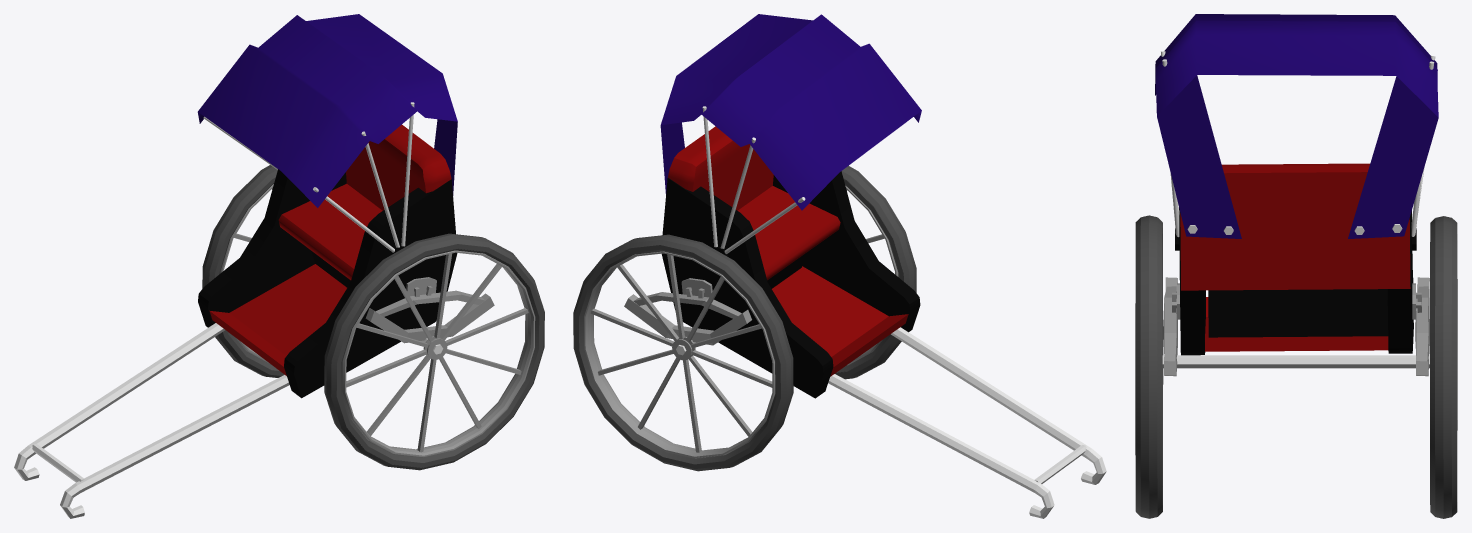
Rendered from car.fbx.
The picture shows the model from 3 angles, left to right: view 1: azimuth 30°, elevation 25°; view 2: azimuth 150°, elevation 25°; view 3: azimuth 270°, elevation 25°; orthographic projection. The views are drawn at different scales.
Visible parts, largest first — view 1: car_roof, chair, sofa, left_wheel, left_tire, handle, right_tire, leftwheelparts, left_post, right_tire1; view 2: car_roof, chair, sofa, right_tire, right_wheel1, handle, rightwheelparts, left_tire, right_post, right_tire1; view 3: sofa, car_roof, right_tire, left_tire, chair, back_post, right_tire1, rightwheelparts, leftwheelparts, right_post.
Part boxes in pixels (x1,y1,x2,y2): car_roof: (197, 14, 457, 207); chair: (198, 169, 457, 398); sofa: (209, 124, 451, 375); left_wheel: (342, 250, 535, 456); left_tire: (324, 233, 544, 467); handle: (14, 323, 289, 518); right_tire: (202, 165, 284, 377); leftwheelparts: (365, 277, 494, 343); left_post: (313, 102, 414, 252); right_tire1: (324, 248, 544, 470); car_roof: (660, 14, 921, 210); chair: (661, 171, 920, 398); sofa: (668, 126, 908, 376); right_tire: (573, 234, 793, 471); right_wheel1: (584, 251, 775, 458); handle: (828, 327, 1106, 518); rightwheelparts: (624, 278, 751, 345); left_tire: (836, 165, 916, 372); right_post: (702, 106, 805, 253); right_tire1: (835, 179, 909, 379); sofa: (1180, 163, 1410, 351); car_roof: (1155, 14, 1438, 238); right_tire: (1430, 216, 1457, 518); left_tire: (1135, 215, 1162, 511); chair: (1179, 207, 1413, 355); back_post: (1162, 355, 1429, 368); right_tire1: (1135, 223, 1163, 518); rightwheelparts: (1412, 277, 1429, 376); leftwheelparts: (1163, 277, 1180, 376); right_post: (1411, 56, 1435, 236).
Size of the model in its own units: 166 by 137 by 86.63.
